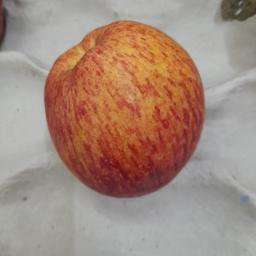Apple Semifresh: (40, 23, 216, 200)
